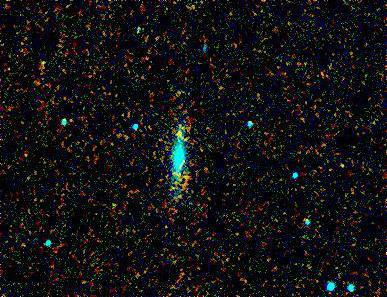star: (162, 120, 192, 150)
